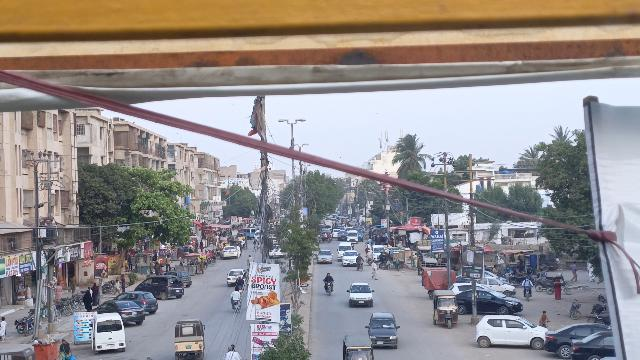Bike: (569, 298, 583, 321), (324, 281, 333, 296), (524, 286, 531, 302), (232, 300, 239, 314), (356, 260, 364, 272)
Car: (473, 311, 547, 351), (543, 323, 603, 355), (456, 289, 523, 316), (96, 297, 145, 329), (365, 310, 400, 350), (135, 275, 186, 299), (114, 290, 160, 313), (345, 280, 377, 308), (223, 268, 247, 285)
Person: (57, 336, 75, 360), (80, 286, 94, 312), (368, 256, 379, 280), (0, 313, 8, 342), (224, 345, 236, 360), (231, 287, 242, 301), (324, 272, 335, 284), (522, 276, 533, 288), (355, 253, 364, 261)
Rickshaw: (172, 317, 207, 359), (429, 287, 463, 330), (339, 333, 376, 360)
Van: (89, 313, 127, 353)
